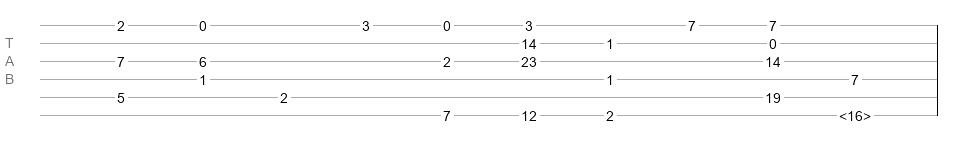0: (199, 18, 207, 28), (443, 18, 451, 28), (769, 36, 777, 46)
1: (199, 72, 207, 82), (606, 36, 614, 46), (606, 72, 614, 82)
12: (521, 108, 537, 118)
14: (521, 36, 537, 46), (765, 54, 781, 64)
19: (765, 90, 781, 100)
2: (117, 18, 125, 28), (280, 90, 288, 100), (443, 54, 451, 64), (606, 108, 614, 118)
23: (521, 54, 537, 64)
3: (362, 18, 370, 28), (525, 18, 533, 28)
5: (117, 90, 125, 100)
6: (199, 54, 207, 64)
7: (117, 54, 125, 64), (443, 108, 451, 118), (688, 18, 696, 28), (769, 18, 777, 28), (851, 72, 859, 82)
harmonic: (839, 108, 871, 118)
